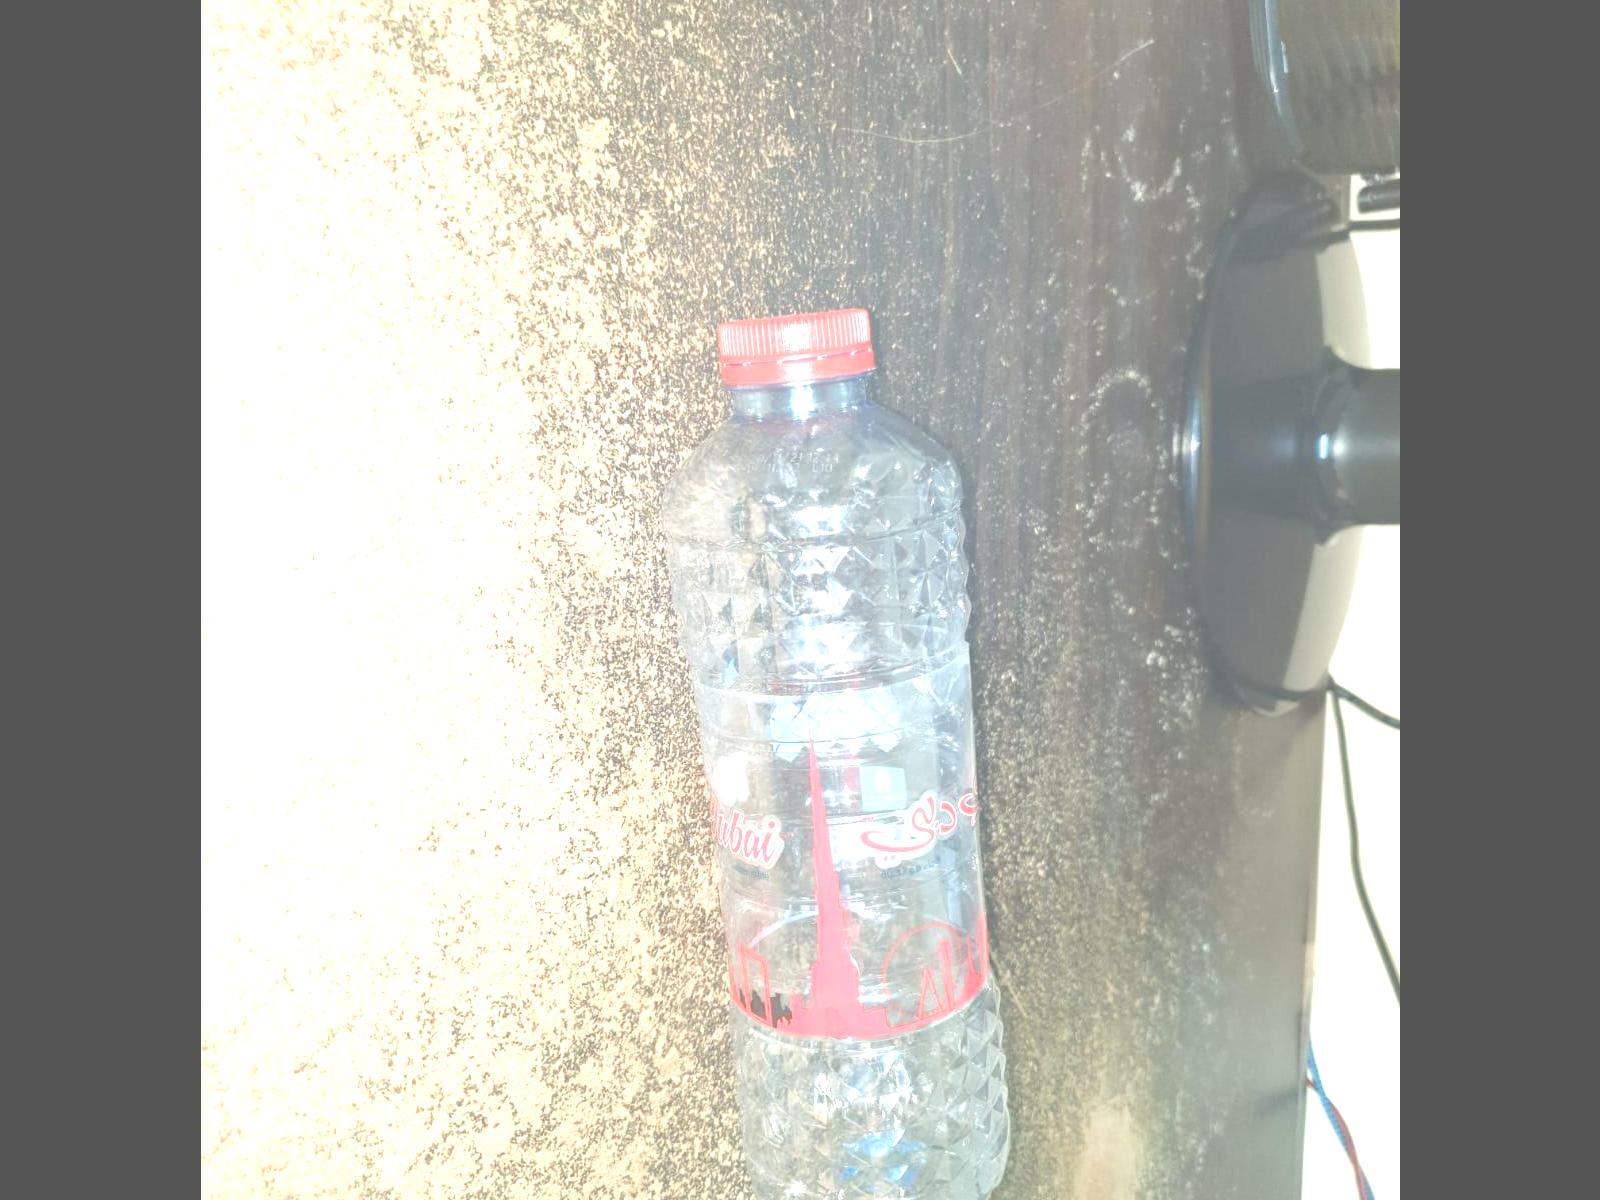bottle: (639, 305, 1029, 1200)
